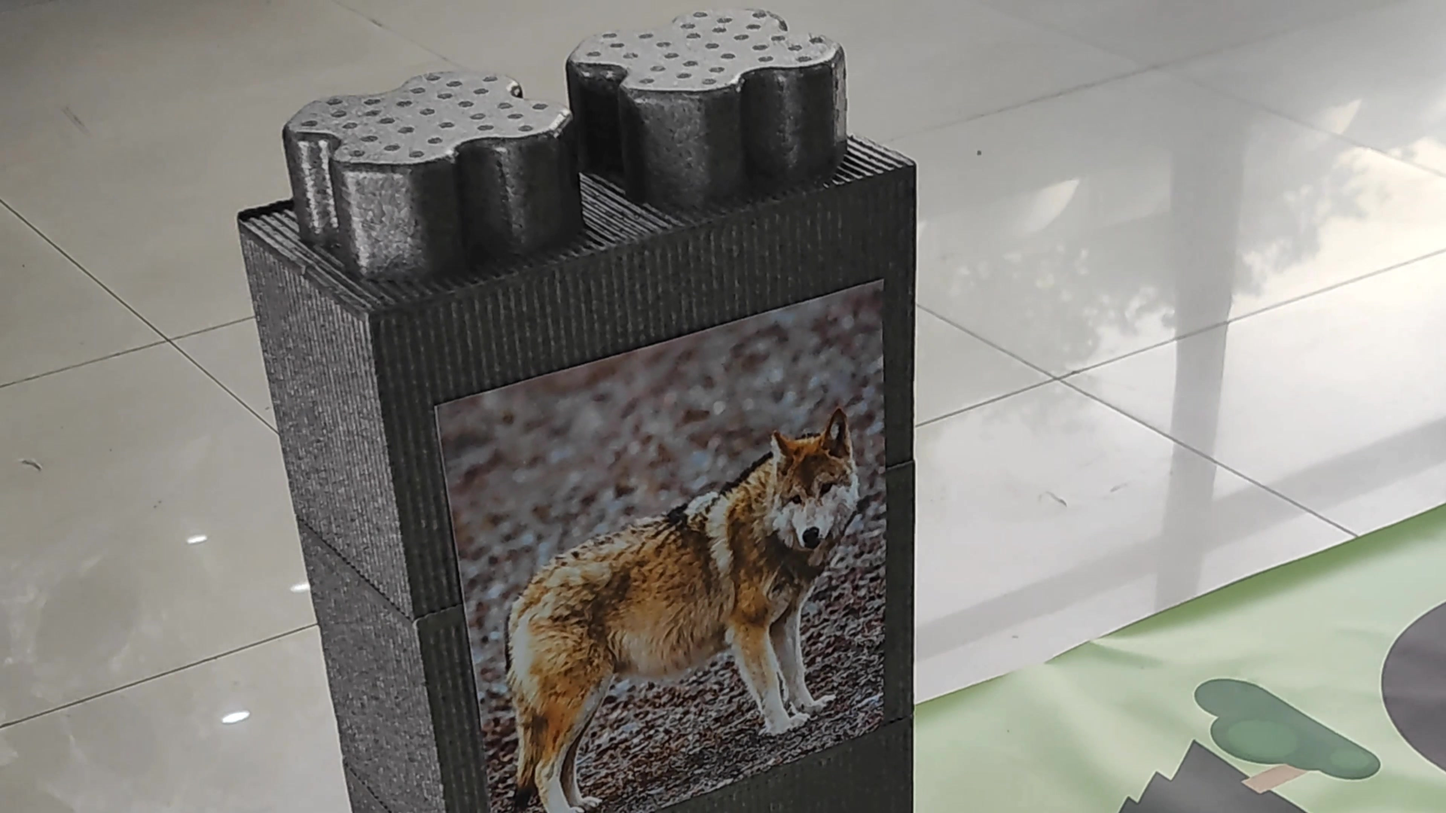wolf: (439, 394, 894, 813)
